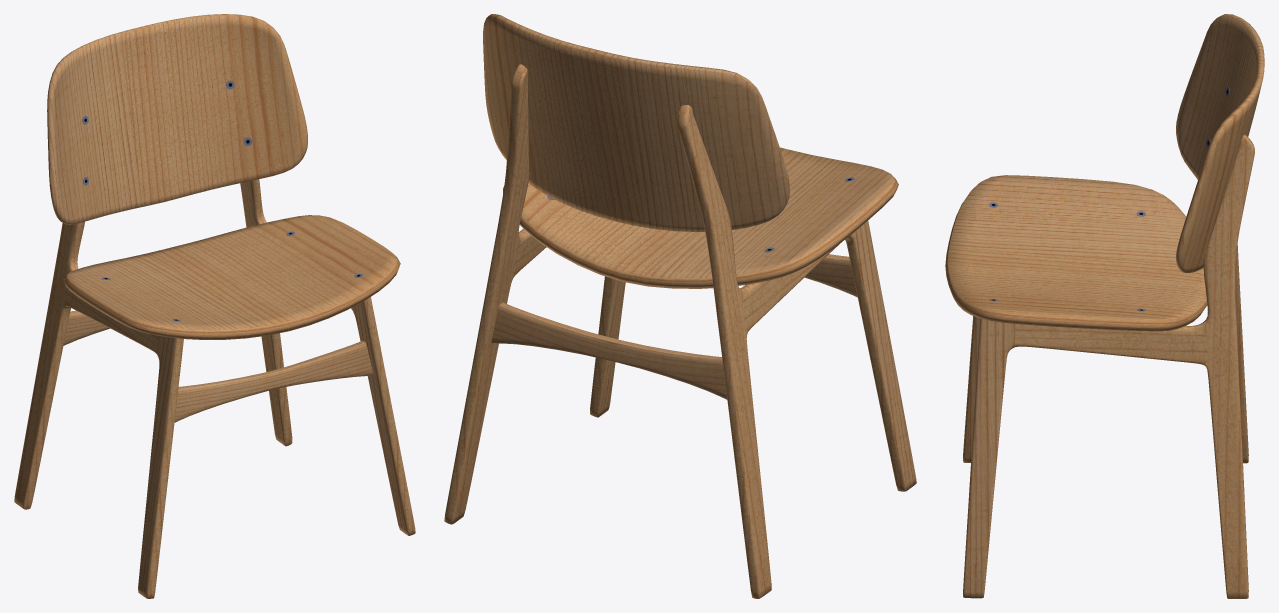
File: chaise_soborg_final.glb
The picture shows the model from 3 angles, left to right: view 1: azimuth 30°, elevation 25°; view 2: azimuth 150°, elevation 25°; view 3: azimuth 270°, elevation 25°; orthographic projection. The views are drawn at different scales.
Visible parts, largest first — view 1: Dossier.002, Siege.002, Pieds.006, Pied.Renfort.avant.002, Pied.Renfort.arriere.002; view 2: Dossier.002, Pieds.006, Siege.002, Pied.Renfort.arriere.002, Pied.Renfort.avant.002; view 3: Siege.002, Pieds.006, Dossier.002.
Part boxes in pixels (x1,y1,x2,y2): Dossier.002: (47, 14, 307, 224); Siege.002: (64, 215, 400, 339); Pieds.006: (14, 179, 415, 598); Pied.Renfort.avant.002: (174, 340, 373, 422); Pied.Renfort.arriere.002: (63, 310, 109, 345); Dossier.002: (483, 14, 789, 231); Pieds.006: (444, 64, 916, 598); Siege.002: (503, 147, 898, 288); Pied.Renfort.arriere.002: (491, 302, 727, 399); Pied.Renfort.avant.002: (804, 254, 857, 297); Siege.002: (945, 175, 1207, 331); Pieds.006: (963, 134, 1254, 598); Dossier.002: (1176, 14, 1264, 272).
Bounding box in the file's own units: 51.23 × 78.89 × 48.64.
3 materials, 1 textured.
